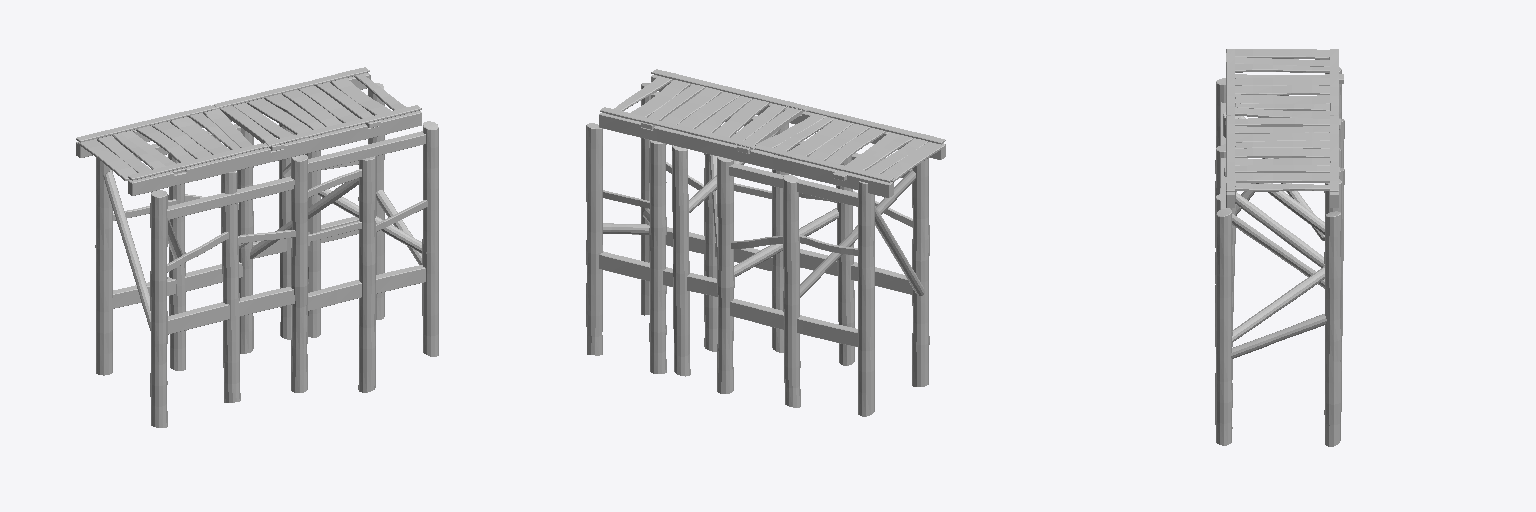
The model's file is msh_dock_pier_01.obj.
3 renders of one model, left to right at view 1: azimuth 30°, elevation 25°; view 2: azimuth 150°, elevation 25°; view 3: azimuth 270°, elevation 25°, orthographic.
Size of the model in its own units: 6.9 by 5.72 by 2.52.